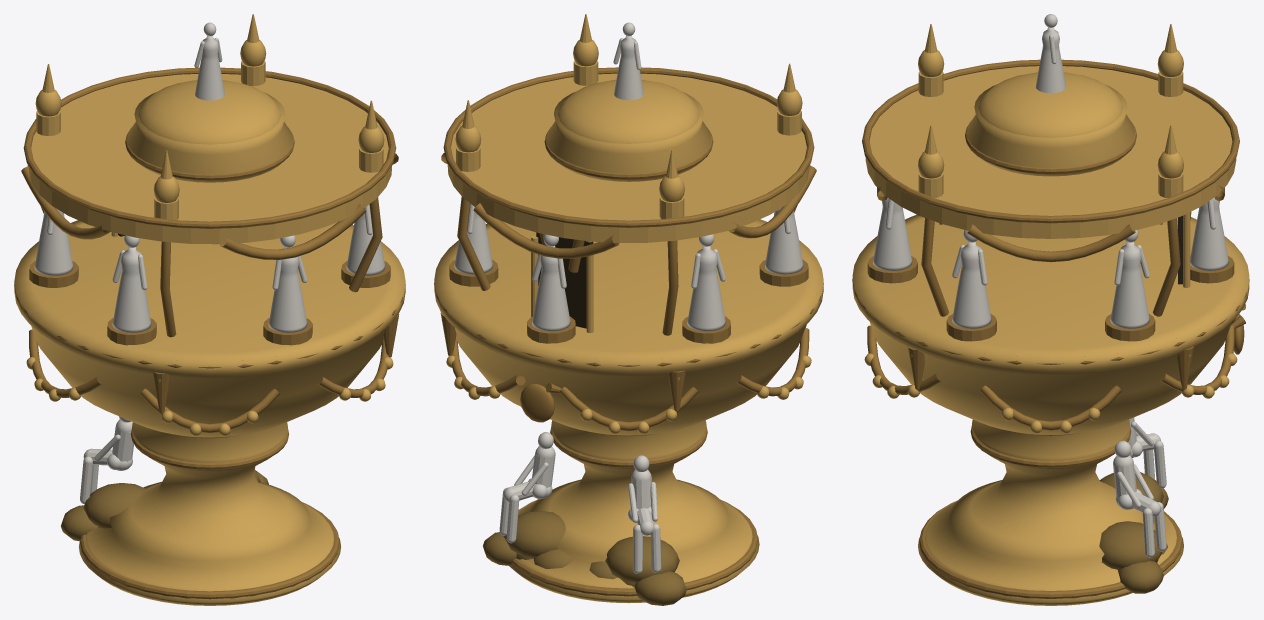
Rendered from scan-unnumbered-watherston-vase-muse.glb.
3 renders of one model, left to right at view 1: azimuth 30°, elevation 25°; view 2: azimuth 150°, elevation 25°; view 3: azimuth 270°, elevation 25°, orthographic.
Visible parts, largest first — view 1: VaseBody, CanopyRing, CanopyDome, CanopyRingRope, CanopyDrum, FootRope, Worthy_Milton_Body, Worthy_Watt_Body, CanopySwag2, FoliageSeat-1, Worthy_Newton_Body, FinialFigure_Body (+19 smaller); view 2: VaseBody, CanopyRing, CanopyDome, CanopyRingRope, CanopyDrum, Worthy_Newton_Body, FootRope, Worthy_Nelson_Body, FoliageSeat1, FoliageSeat-1, CanopySwag0, Worthy_Milton_Body (+26 smaller); view 3: VaseBody, CanopyRing, CanopyDome, CanopyRingRope, CanopyDrum, FootRope, Worthy_Shakespeare_Body, Worthy_Wellington_Body, FoliageSeat1, Worthy_Watt_Body, Worthy_Nelson_Body, CanopySwag1 (+22 smaller).
Part boxes in pixels (x1,y1,x2,y2): VaseBody: [14, 220, 405, 605]; CanopyRing: [27, 74, 392, 244]; CanopyDome: [138, 80, 281, 144]; CanopyRingRope: [23, 67, 396, 228]; CanopyDrum: [127, 92, 292, 182]; FootRope: [80, 502, 339, 599]; Worthy_Milton_Body: [112, 247, 151, 332]; Worthy_Watt_Body: [268, 247, 307, 332]; CanopySwag2: [220, 204, 366, 259]; FoliageSeat-1: [83, 483, 146, 528]; Worthy_Newton_Body: [34, 208, 73, 275]; FinialFigure_Body: [195, 35, 224, 100]; VaseBody: [434, 219, 823, 603]; CanopyRing: [447, 73, 810, 242]; CanopyDome: [558, 79, 699, 143]; CanopyRingRope: [443, 67, 814, 227]; CanopyDrum: [546, 92, 711, 181]; Worthy_Newton_Body: [687, 246, 725, 331]; FootRope: [511, 500, 758, 596]; Worthy_Nelson_Body: [532, 246, 570, 331]; FoliageSeat1: [503, 511, 565, 557]; FoliageSeat-1: [605, 536, 679, 582]; CanopySwag0: [473, 203, 619, 258]; Worthy_Milton_Body: [765, 208, 803, 274]; VaseBody: [852, 214, 1249, 605]; CanopyRing: [865, 66, 1236, 238]; CanopyDome: [978, 72, 1123, 137]; CanopyRingRope: [862, 59, 1239, 223]; CanopyDrum: [967, 84, 1134, 176]; FootRope: [919, 501, 1182, 598]; Worthy_Shakespeare_Body: [1110, 241, 1149, 328]; Worthy_Wellington_Body: [952, 241, 991, 328]; FoliageSeat1: [1099, 521, 1161, 569]; Worthy_Watt_Body: [873, 197, 912, 270]; Worthy_Nelson_Body: [1190, 197, 1228, 270]; CanopySwag1: [966, 224, 1135, 262].
Size of the model in its own units: 0.633 by 0.9519 by 0.633.
